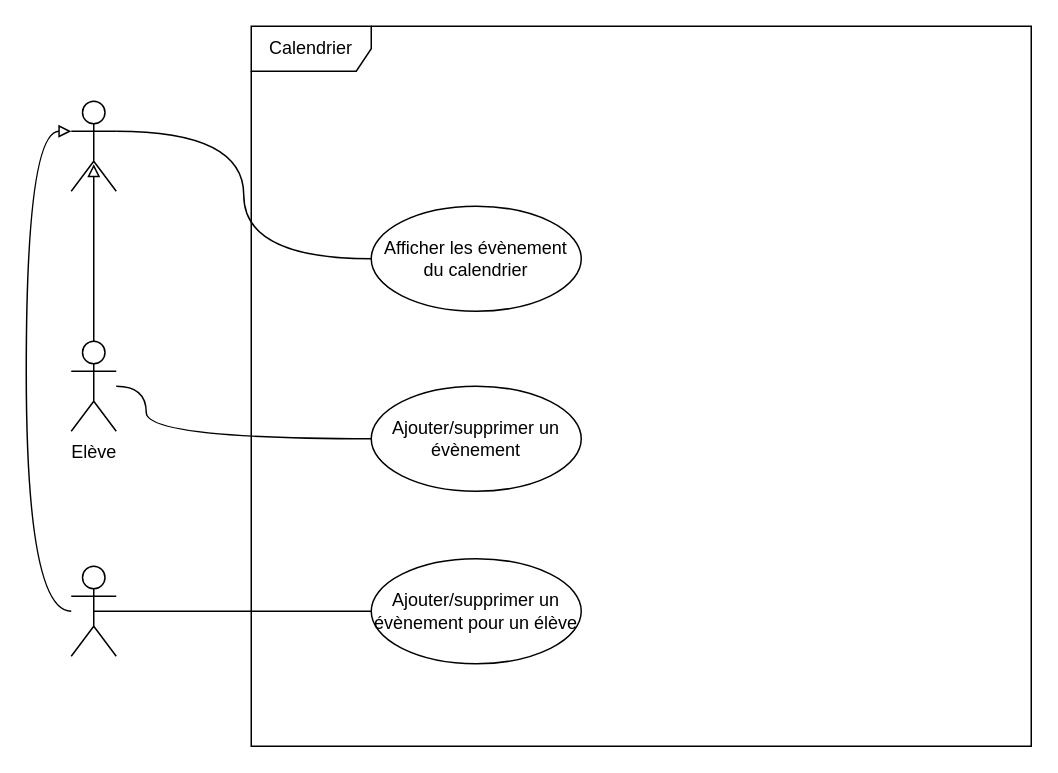
The diagram is 1058 pixels wide and 773 high, and some of its shapes have lost their labels. Here are the shapes that lost their labels. From the top down, the box of each, then its label:
(70, 100, 116, 191): Utilisateur
(70, 565, 116, 656): Bénévole
